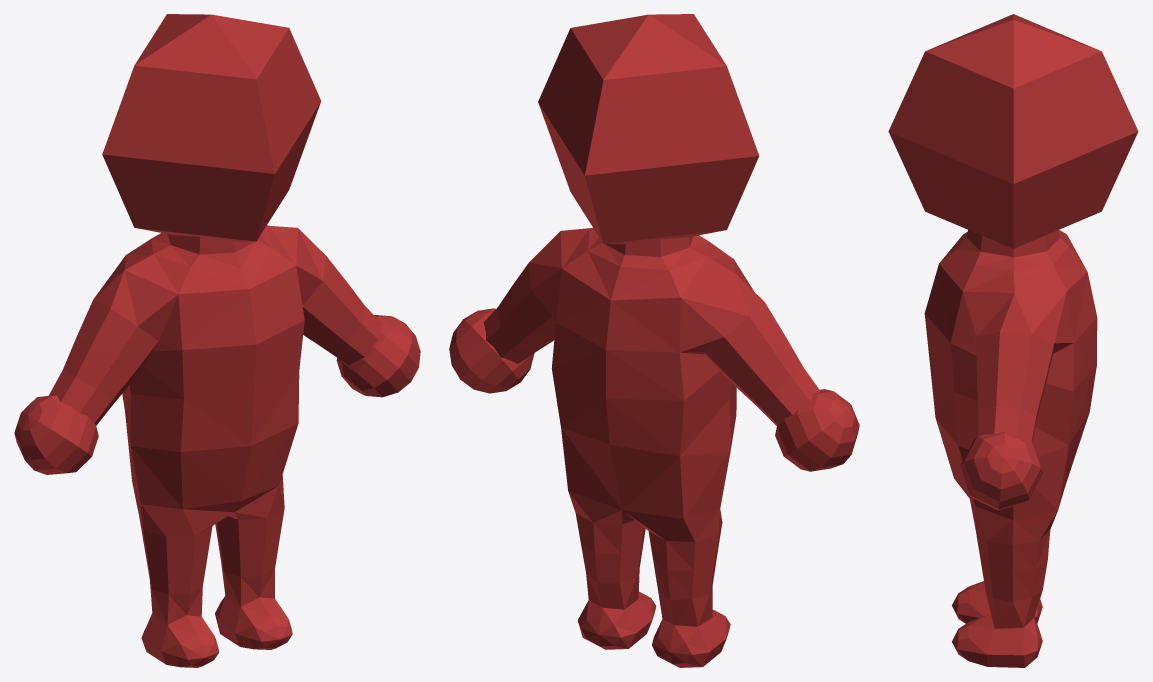
Rendered from playerIdle.obj.
The picture shows the model from 3 angles, left to right: view 1: azimuth 30°, elevation 25°; view 2: azimuth 150°, elevation 25°; view 3: azimuth 270°, elevation 25°; orthographic projection. The views are drawn at different scales.
Parts seen in each view (by area): view 1: 円柱; view 2: 円柱; view 3: 円柱.
Boxes of the visible parts, x1,y1,x2,y2 form: 円柱: [14, 14, 420, 667]; 円柱: [449, 14, 859, 667]; 円柱: [888, 14, 1138, 667].
Bounding box in the file's own units: 3.61 × 5.52 × 2.
1 material, 1 textured.
